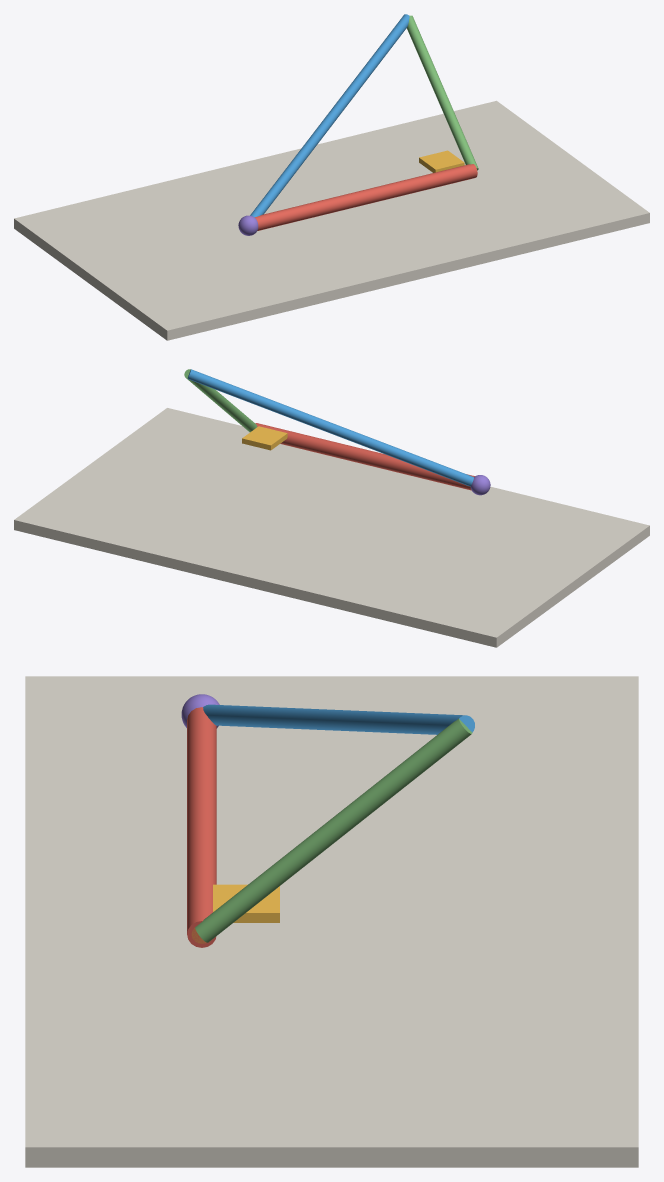
File: math-advanced-math-trig-cosine.glb
3 renders of one model, top to bottom at view 1: azimuth 30°, elevation 25°; view 2: azimuth 150°, elevation 25°; view 3: azimuth 270°, elevation 25°, orthographic. The views are drawn at different scales.
Visible parts, largest first — view 1: advanced-math-base, cosine-adjacent-highlight, right-triangle-side-3, right-triangle-side-2, right-angle-square; view 2: advanced-math-base, right-triangle-side-3, cosine-adjacent-highlight, right-triangle-side-2, right-angle-square; view 3: advanced-math-base, right-triangle-side-2, cosine-adjacent-highlight, right-triangle-side-3, right-angle-square.
Boxes of the visible parts, <box> form: advanced-math-base: <box>14,100,649,340</box>; cosine-adjacent-highlight: <box>255,164,477,230</box>; right-triangle-side-3: <box>250,14,409,217</box>; right-triangle-side-2: <box>407,15,478,170</box>; right-angle-square: <box>419,150,464,172</box>; advanced-math-base: <box>14,408,649,647</box>; right-triangle-side-3: <box>187,369,473,486</box>; cosine-adjacent-highlight: <box>255,423,474,490</box>; right-triangle-side-2: <box>184,369,257,432</box>; right-angle-square: <box>242,426,287,450</box>; advanced-math-base: <box>25,676,638,1167</box>; right-triangle-side-2: <box>195,718,472,942</box>; cosine-adjacent-highlight: <box>187,707,216,947</box>; right-triangle-side-3: <box>203,704,474,734</box>; right-angle-square: <box>213,884,279,922</box>.
Size of what is drawn, in the model's own units: 3 by 0.956 by 1.65.
